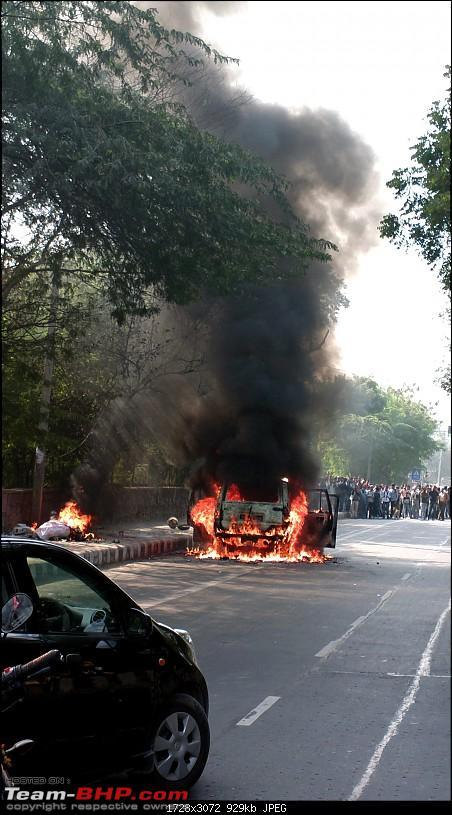fire: (188, 479, 322, 565), (54, 501, 96, 533)
smoke: (203, 284, 333, 479), (270, 102, 383, 282), (173, 46, 268, 152), (129, 307, 202, 442), (70, 409, 128, 499), (154, 0, 245, 39), (333, 384, 369, 467)
